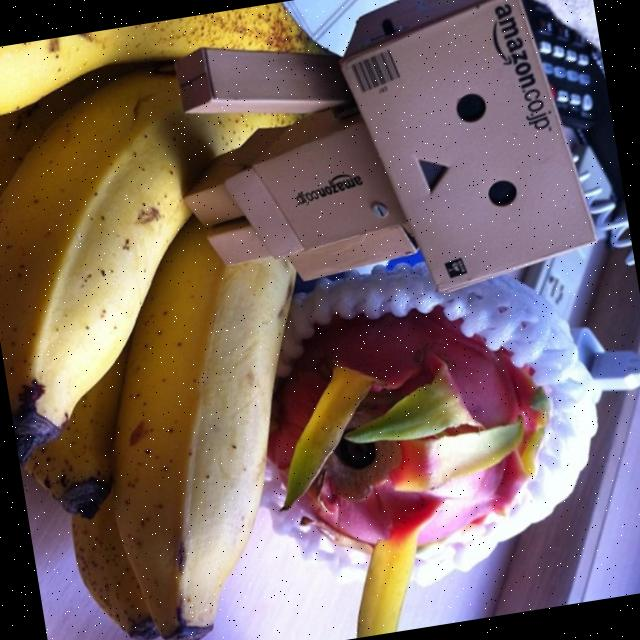banana: (67, 218, 295, 640)
